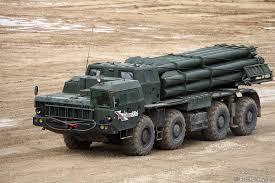MIL_SAM_TEL: (30, 40, 267, 154)
